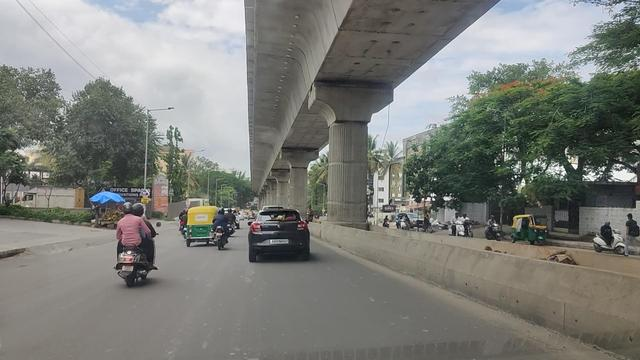LMV: (247, 207, 309, 266), (114, 202, 153, 290), (187, 207, 214, 246), (214, 208, 228, 249)
